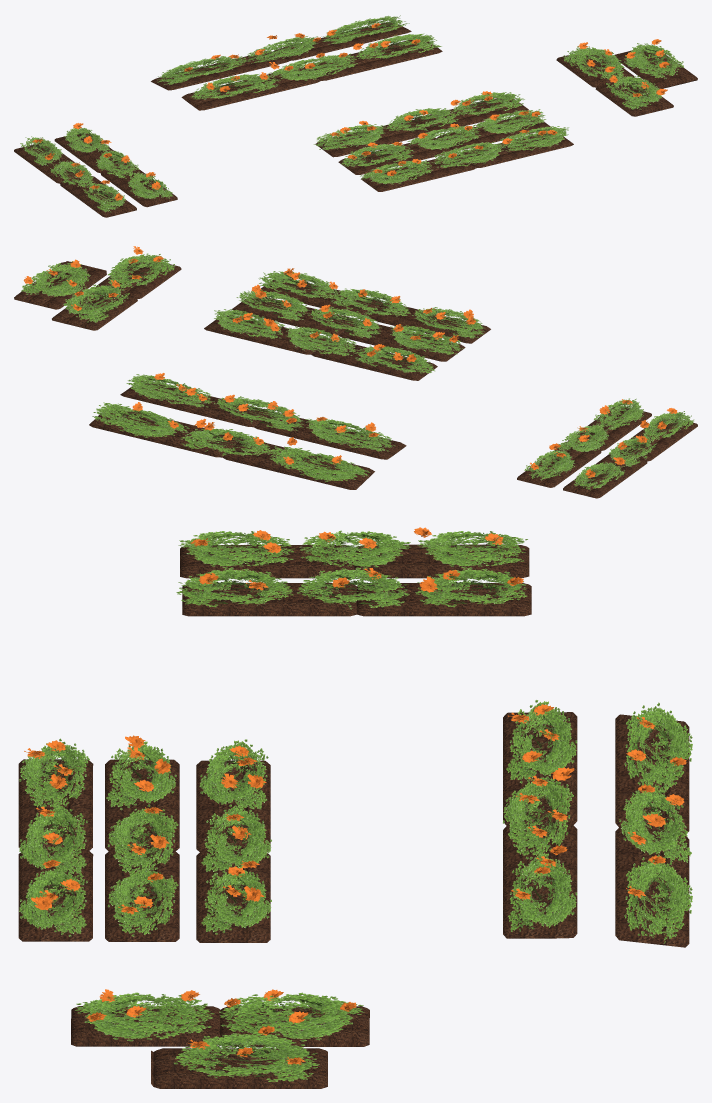
The model's file is plantas.obj.
3 views of the same model, one above another, from view 1: azimuth 30°, elevation 25°; view 2: azimuth 150°, elevation 25°; view 3: azimuth 270°, elevation 25° (orthographic). The views are drawn at different scales.
Parts seen in each view (by area): view 1: leaves.001, HP.009, cempacultivo_Texturizado; view 2: leaves.001, HP.009, cempacultivo_Texturizado; view 3: leaves.001, HP.009, cempacultivo_Texturizado.
Boxes of the visible parts, box(x1,y1,x2,y2) form: leaves.001: box(20, 15, 683, 212); HP.009: box(14, 22, 697, 217); cempacultivo_Texturizado: box(32, 23, 669, 200); leaves.001: box(21, 253, 694, 490); HP.009: box(14, 261, 697, 498); cempacultivo_Texturizado: box(23, 246, 677, 478); leaves.001: box(19, 530, 692, 1081); HP.009: box(18, 544, 689, 1088); cempacultivo_Texturizado: box(24, 527, 686, 1064).
Size of the model in its own units: 218 by 7.1 by 116.
Materials: 4 (4 with a texture image).
